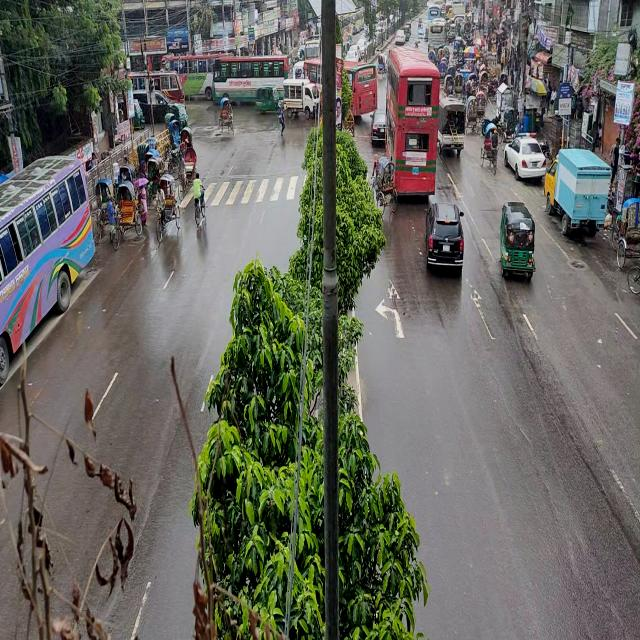black: (424, 206, 464, 276), (133, 91, 176, 126), (371, 108, 390, 146)
white: (503, 134, 546, 180)
